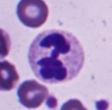N: (28, 29, 86, 84)
